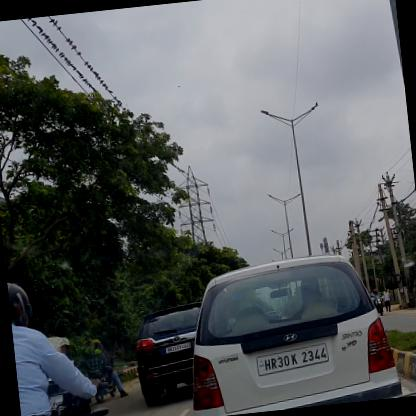car: (178, 247, 405, 415), (131, 302, 211, 408)
motorcycle: (86, 336, 131, 402), (370, 288, 383, 316)
